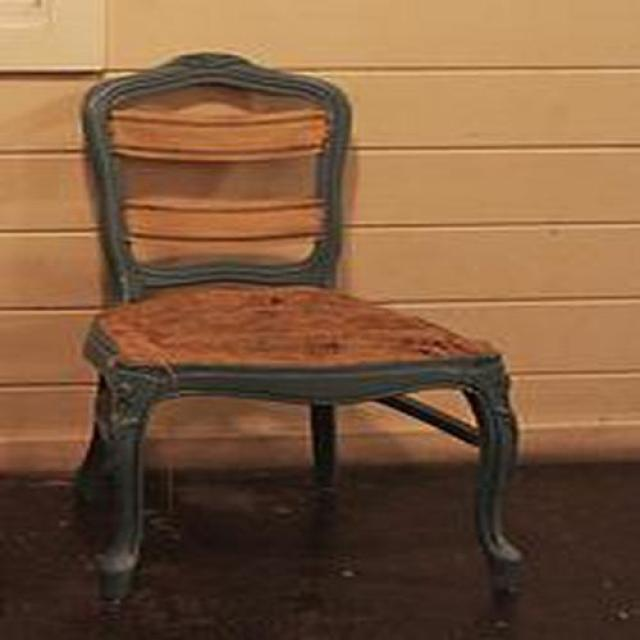chair: (69, 52, 525, 627)
